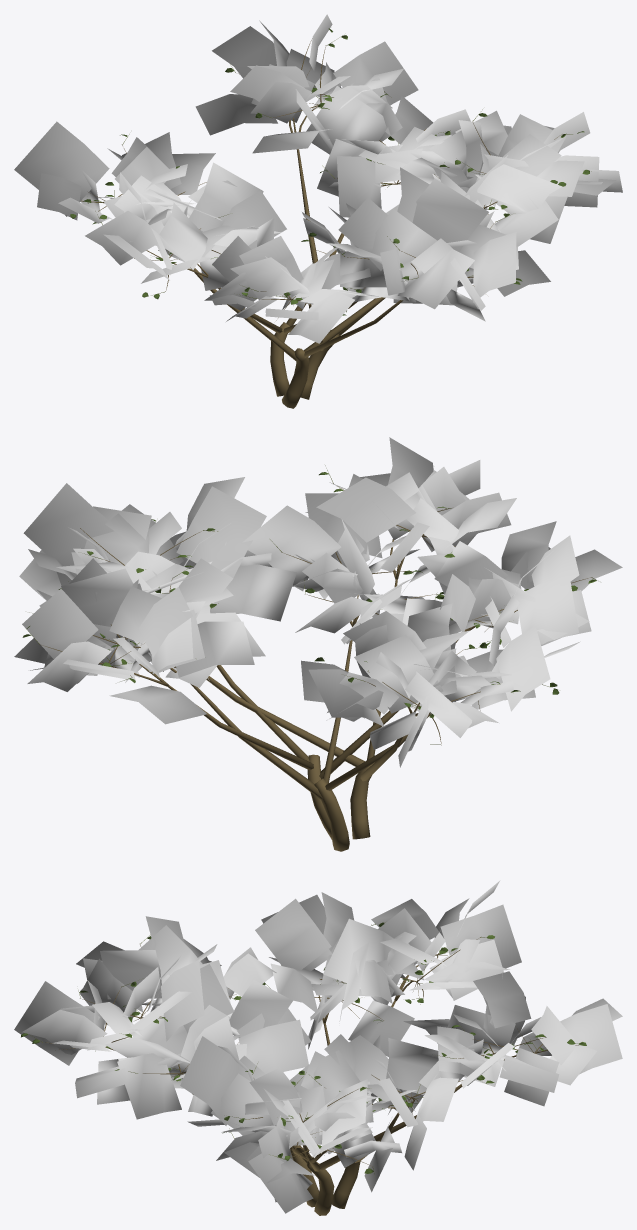
File: V7_Lentisque_1_Niveau1.fbx
3 renders of one model, top to bottom at view 1: azimuth 30°, elevation 25°; view 2: azimuth 150°, elevation 25°; view 3: azimuth 270°, elevation 25°, orthographic. The views are drawn at different scales.
Visible parts, largest first — view 1: V7_Lentisque_1_Detail1; view 2: V7_Lentisque_1_Detail1; view 3: V7_Lentisque_1_Detail1.
Part boxes in pixels (bbox=[...]): V7_Lentisque_1_Detail1: bbox=[14, 14, 622, 408]; V7_Lentisque_1_Detail1: bbox=[14, 437, 622, 851]; V7_Lentisque_1_Detail1: bbox=[14, 880, 622, 1215].
Bounding box in the file's own units: 344 × 177 × 354.
